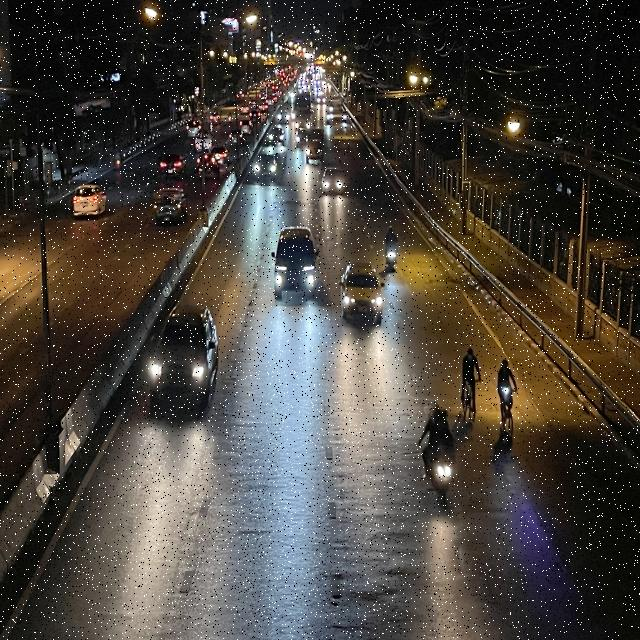bike: (419, 400, 456, 507), (456, 339, 485, 425), (492, 357, 520, 438), (384, 223, 400, 272)
car: (147, 300, 221, 416), (271, 224, 320, 305), (338, 259, 385, 328), (321, 165, 348, 198), (252, 150, 278, 182)
